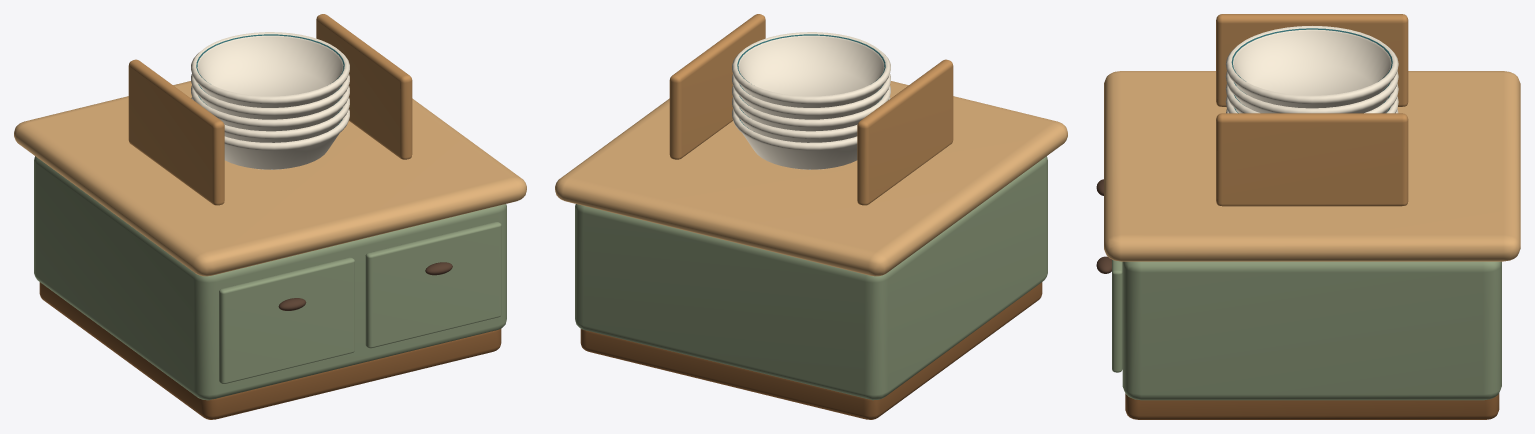
The model's file is station-dishes.obj.
The picture shows the model from 3 angles, left to right: view 1: azimuth 30°, elevation 25°; view 2: azimuth 150°, elevation 25°; view 3: azimuth 270°, elevation 25°; orthographic projection. The views are drawn at different scales.
Parts seen in each view (by area): view 1: station-dishes_sage, station-dishes_oakLight, station-dishes_ivory, station-dishes_oak, station-dishes_oakDark, station-dishes_cocoa; view 2: station-dishes_sage, station-dishes_oakLight, station-dishes_ivory, station-dishes_oak, station-dishes_oakDark; view 3: station-dishes_sage, station-dishes_oakLight, station-dishes_oak, station-dishes_ivory, station-dishes_oakDark, station-dishes_teal.
Part boxes in pixels (left/top/right/bottom): station-dishes_sage: left=34, top=156, right=506, bottom=400; station-dishes_oakLight: left=14, top=81, right=526, bottom=276; station-dishes_ivory: left=191, top=32, right=349, bottom=169; station-dishes_oak: left=128, top=14, right=412, bottom=205; station-dishes_oakDark: left=39, top=282, right=501, bottom=419; station-dishes_cocoa: left=278, top=262, right=452, bottom=310; station-dishes_sage: left=575, top=156, right=1047, bottom=400; station-dishes_oakLight: left=555, top=81, right=1067, bottom=276; station-dishes_ivory: left=732, top=32, right=890, bottom=169; station-dishes_oak: left=669, top=14, right=953, bottom=205; station-dishes_oakDark: left=580, top=282, right=1042, bottom=419; station-dishes_sage: left=1112, top=259, right=1501, bottom=400; station-dishes_oakLight: left=1104, top=71, right=1520, bottom=261; station-dishes_oak: left=1216, top=14, right=1408, bottom=206; station-dishes_ivory: left=1225, top=26, right=1398, bottom=113; station-dishes_oakDark: left=1125, top=393, right=1499, bottom=419; station-dishes_teal: left=1231, top=28, right=1392, bottom=113.
Size of the model in its own units: 0.78 by 0.5871 by 0.794.
